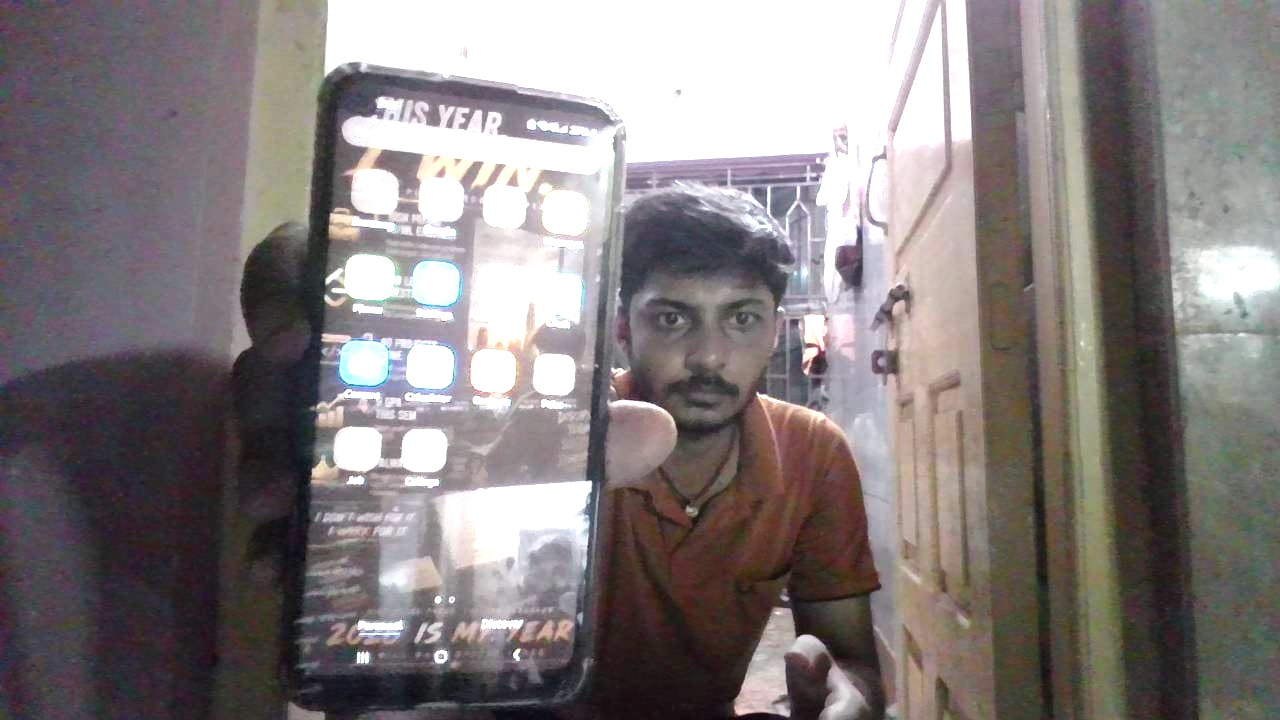red_box: (707, 415, 864, 565)
